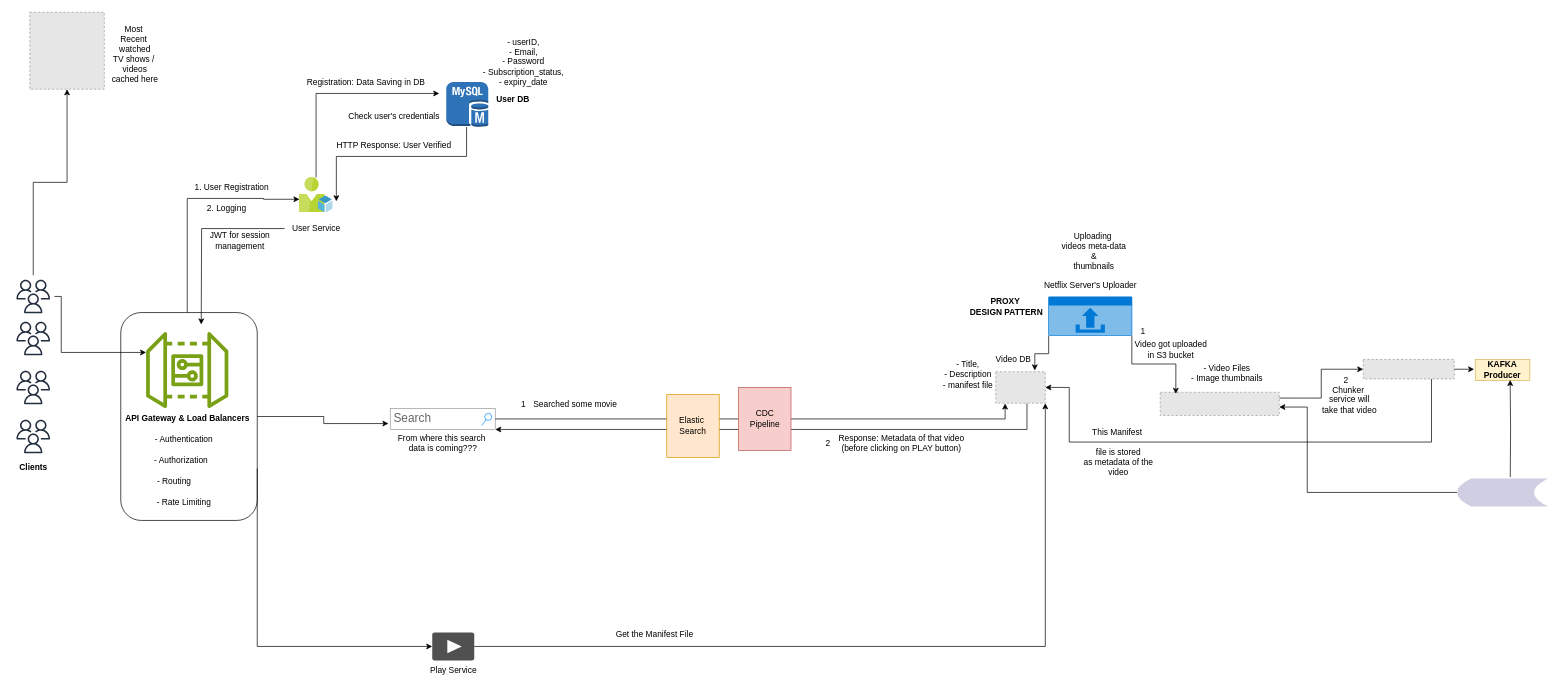
This 1560x694 diagram has some shape labels left out. Grey dashed boxes stand in for pictures. The shapes that lost their labels are listed below. From the top down, each one's box as (x1, y1, x2, y2) in pixels, then its label:
(1048, 296, 1132, 335): Upload
(1457, 478, 1548, 506): Video Encoder
